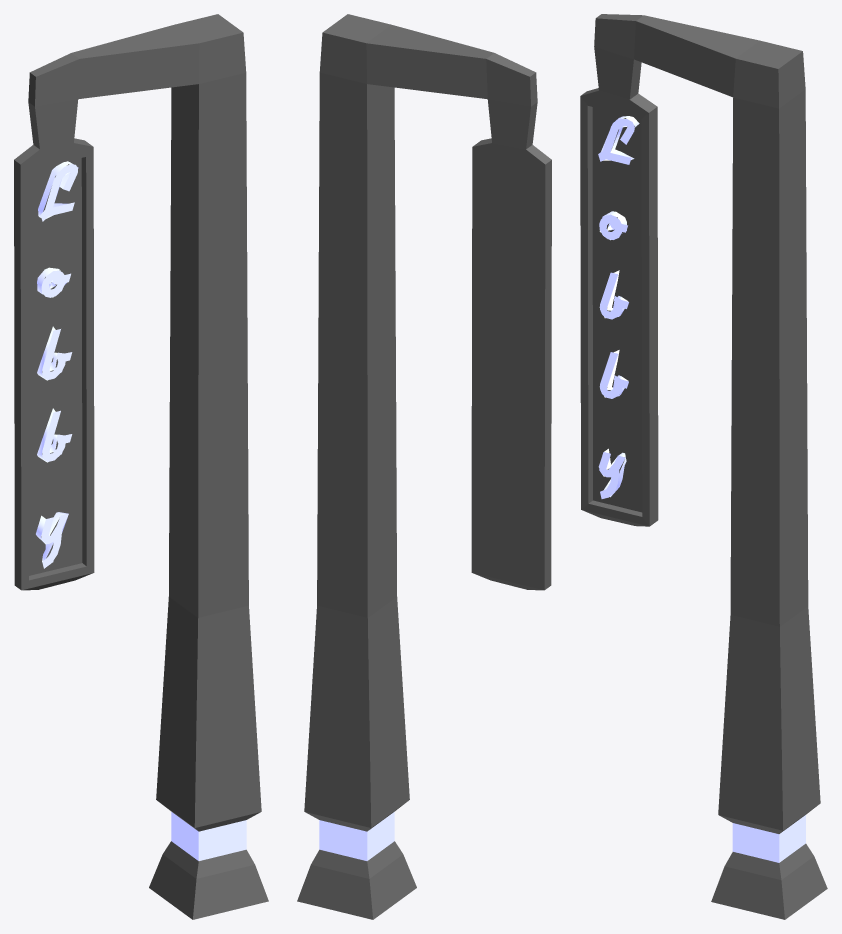
Rendered from misc4.fbx.
3 views of the same model, side by side, from view 1: azimuth 30°, elevation 25°; view 2: azimuth 150°, elevation 25°; view 3: azimuth 330°, elevation 25° (orthographic). The views are drawn at different scales.
Parts seen in each view (by area): view 1: Text; view 2: Text; view 3: Text.
Boxes of the visible parts, x1=… form: Text: x1=14, y1=14, x2=268, y2=919; Text: x1=297, y1=14, x2=551, y2=919; Text: x1=580, y1=14, x2=827, y2=919.
Bounding box in the file's own units: 235 × 851 × 77.91.
